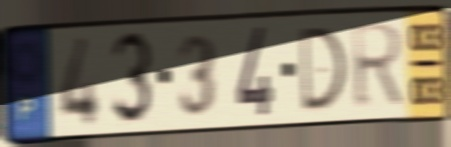3: (106, 28, 160, 130), (174, 30, 219, 121)
4: (56, 33, 102, 130), (233, 23, 276, 121)
D: (296, 23, 349, 116)
R: (348, 19, 407, 112)
